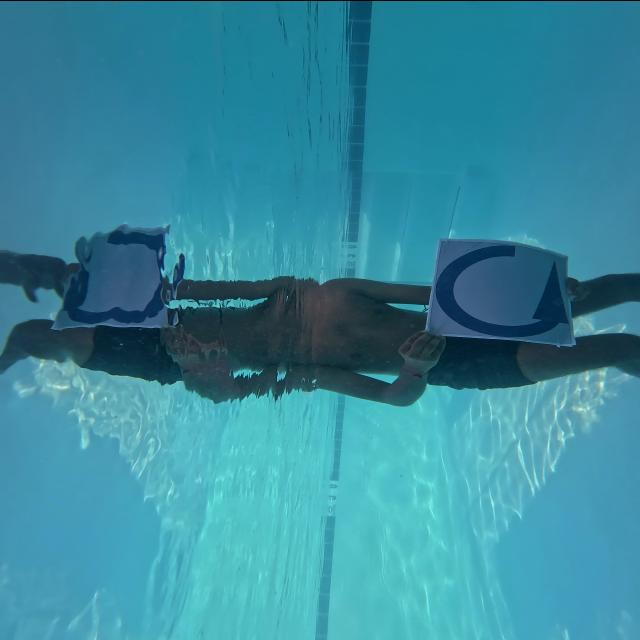blue_side: (428, 240, 572, 342)
